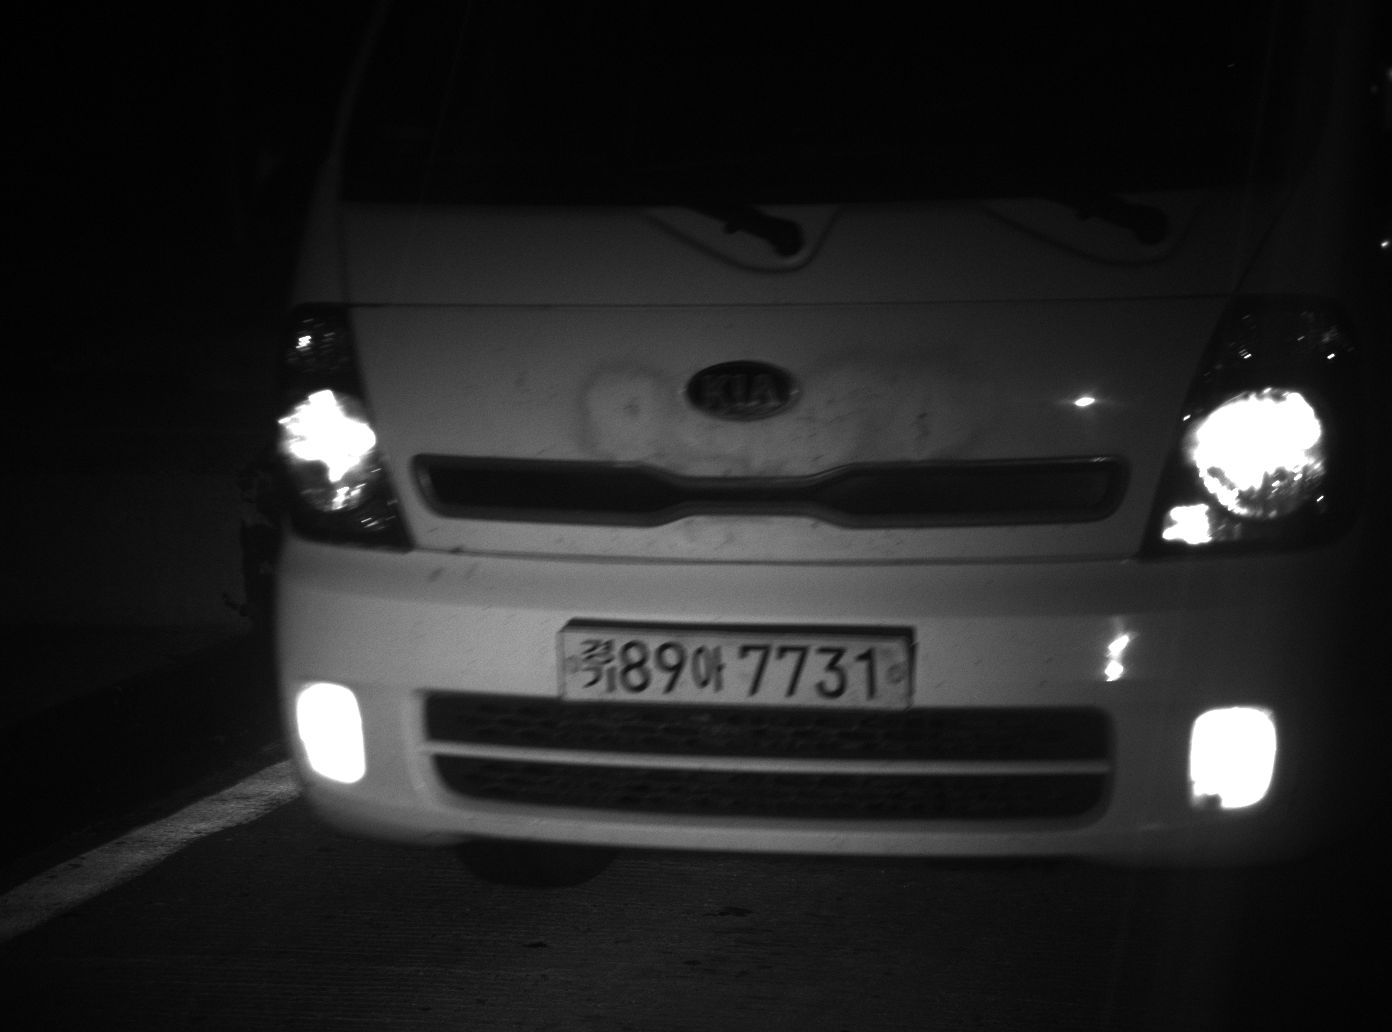car: (274, 1, 1390, 888)
plate: (558, 624, 912, 707)
